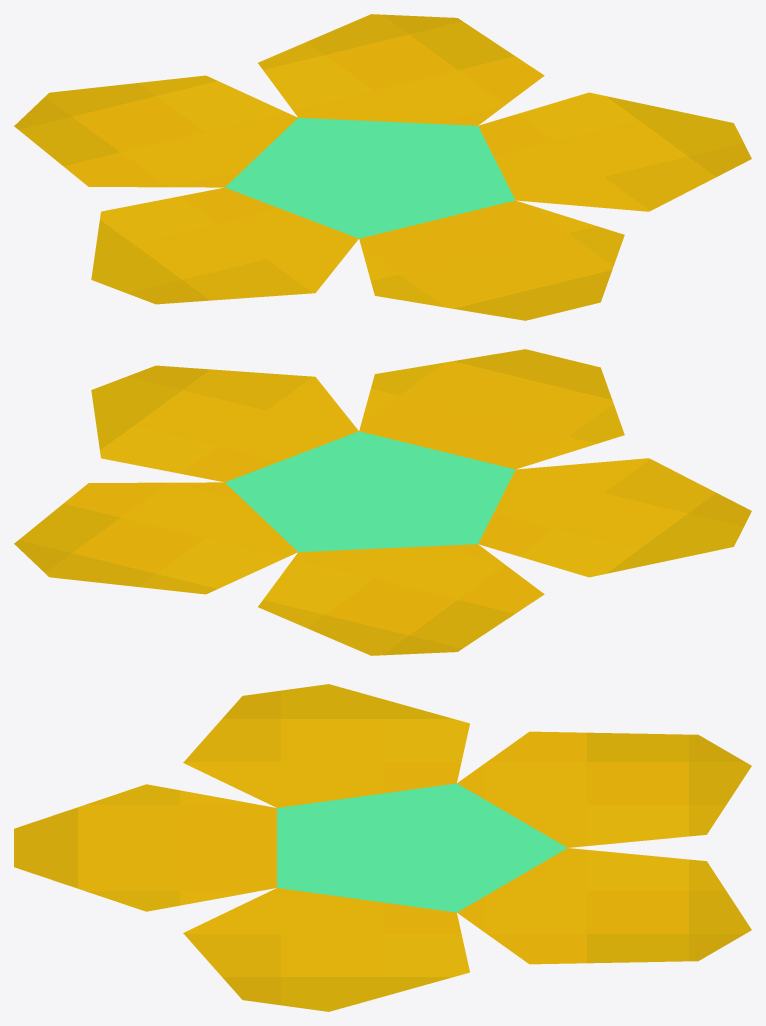
The model's file is GroundFlower_001.fbx.
3 renders of one model, top to bottom at view 1: azimuth 30°, elevation 25°; view 2: azimuth 150°, elevation 25°; view 3: azimuth 270°, elevation 25°, orthographic. The views are drawn at different scales.
Visible parts, largest first — view 1: GroundFlower.001; view 2: GroundFlower.001; view 3: GroundFlower.001.
Part boxes in pixels (x1,y1,x2,y2): GroundFlower.001: (14,14,751,320); GroundFlower.001: (14,349,751,655); GroundFlower.001: (14,684,751,1011).
Size of the model in its own units: 0.4023 by 1.18e-15 by 0.3826.
